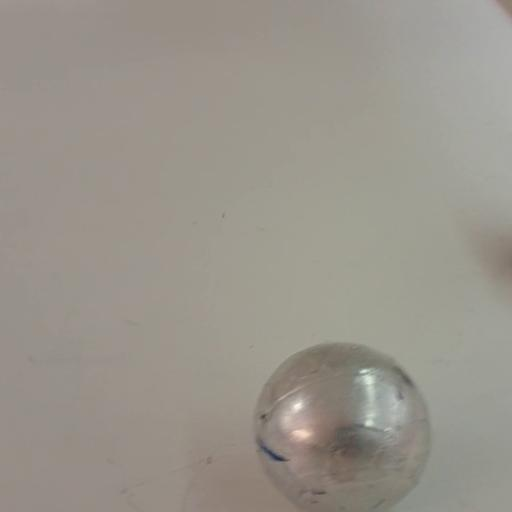alive: (250, 338, 436, 512)
